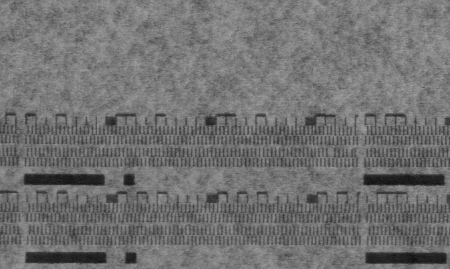Broken hole: (325, 146, 338, 158)
